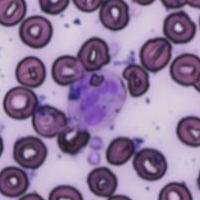N: (66, 68, 127, 131)
